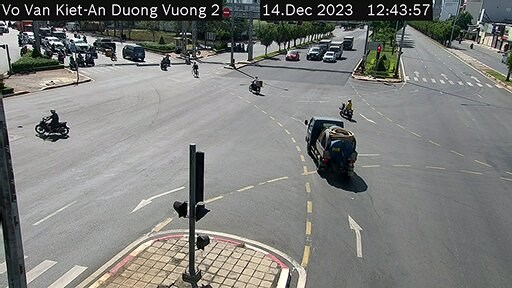car: (123, 42, 145, 64), (319, 51, 334, 67), (306, 46, 320, 63), (287, 47, 295, 65)
motorbike: (32, 109, 69, 145), (158, 50, 172, 78), (247, 75, 264, 93), (186, 63, 198, 85), (343, 97, 352, 118)
truck: (306, 115, 360, 162), (340, 33, 358, 54), (330, 38, 341, 57), (319, 35, 328, 53)
